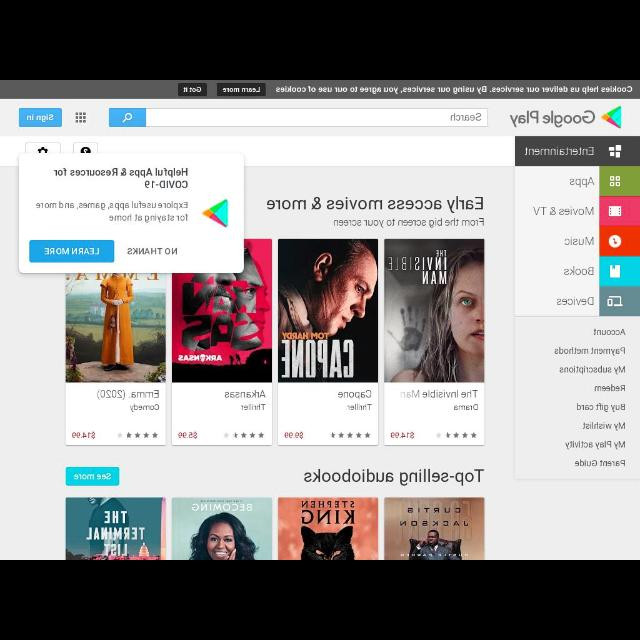button: (108, 108, 146, 126), (24, 143, 60, 155), (74, 142, 98, 152)
icon: (606, 176, 622, 188), (610, 144, 622, 160), (609, 264, 621, 278), (608, 236, 622, 248), (606, 296, 622, 306), (74, 112, 86, 124), (120, 113, 134, 123), (609, 206, 621, 216), (39, 147, 49, 155), (470, 432, 478, 440), (81, 147, 91, 153), (347, 432, 353, 440), (338, 432, 344, 440), (152, 432, 158, 440), (454, 432, 460, 438), (446, 433, 452, 439), (329, 432, 335, 438), (224, 432, 230, 438), (126, 432, 132, 438), (118, 432, 124, 438), (464, 433, 468, 439), (438, 432, 442, 438), (358, 432, 362, 438), (258, 434, 264, 438), (242, 433, 246, 439), (234, 432, 238, 438), (136, 432, 140, 438), (366, 434, 370, 438), (250, 434, 254, 438), (144, 434, 148, 438)
image: (384, 238, 484, 382), (278, 239, 378, 383), (172, 240, 270, 382), (66, 274, 164, 382), (384, 498, 484, 560), (172, 498, 272, 560), (280, 498, 378, 560), (66, 497, 164, 559), (201, 200, 229, 228), (600, 107, 622, 129)
input: (145, 107, 487, 127)
text: (274, 84, 632, 96), (54, 168, 188, 192), (36, 202, 190, 222), (264, 198, 483, 210), (508, 110, 596, 128), (334, 218, 484, 228), (400, 388, 478, 400), (96, 388, 160, 402), (524, 146, 594, 156), (43, 246, 101, 258), (534, 206, 594, 216), (574, 457, 626, 467), (564, 441, 626, 449), (556, 295, 594, 307), (554, 347, 624, 353), (224, 388, 266, 398), (128, 248, 180, 256), (557, 366, 625, 372), (74, 472, 112, 482), (337, 389, 373, 399), (582, 422, 626, 430), (592, 328, 626, 338), (222, 86, 260, 94), (564, 237, 594, 247), (565, 266, 595, 276), (576, 404, 626, 410), (569, 176, 595, 187), (129, 403, 159, 412), (594, 384, 626, 392), (347, 401, 371, 411), (70, 432, 96, 440), (449, 114, 481, 120), (242, 404, 266, 412), (390, 432, 414, 440), (284, 432, 304, 440), (177, 432, 197, 440), (27, 114, 53, 120), (454, 404, 478, 410), (182, 86, 200, 92)
textbutton: (31, 240, 115, 264), (66, 468, 120, 486), (19, 109, 62, 127), (218, 84, 266, 96), (178, 82, 206, 96)
